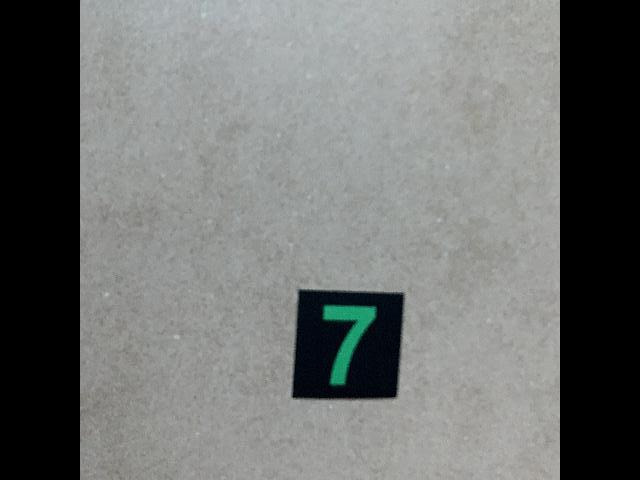seven: (290, 287, 405, 404)
